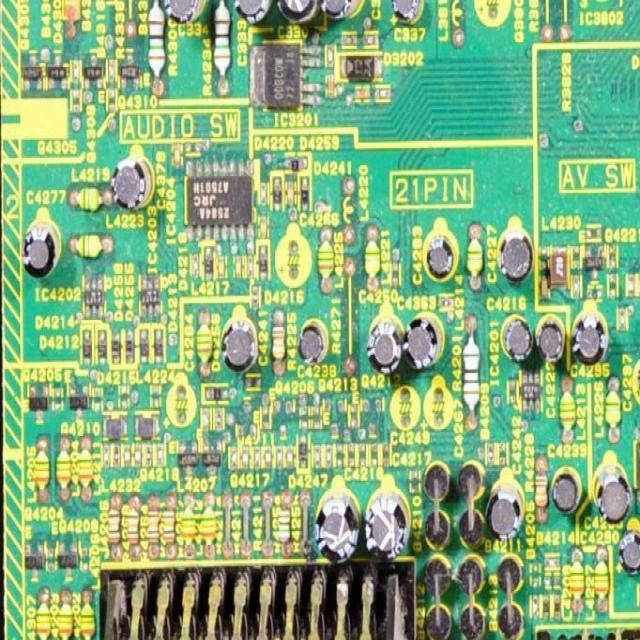IC: (186, 161, 254, 239), (248, 43, 321, 108), (136, 275, 162, 320), (84, 274, 105, 317), (634, 423, 640, 502)
capacitor: (286, 176, 295, 207), (257, 215, 269, 238), (617, 308, 628, 332), (286, 444, 295, 468), (156, 442, 164, 468), (201, 408, 210, 430), (241, 447, 250, 468), (252, 447, 261, 467), (276, 444, 284, 466), (327, 74, 334, 99), (174, 142, 181, 165), (134, 443, 140, 469), (234, 257, 241, 278), (358, 86, 371, 96), (219, 257, 225, 278), (123, 446, 130, 464), (230, 447, 236, 468), (264, 447, 270, 468)
resistor: (458, 324, 481, 428), (211, 0, 234, 95), (146, 0, 165, 92), (276, 494, 293, 554), (533, 457, 548, 521), (109, 496, 123, 555), (126, 498, 140, 556), (270, 312, 284, 370), (149, 494, 159, 554), (167, 494, 175, 554), (376, 82, 391, 98), (215, 408, 223, 432), (364, 32, 377, 46), (113, 444, 121, 466), (144, 446, 153, 464), (327, 45, 334, 67), (344, 31, 356, 43), (252, 284, 258, 308)
transistor: (26, 384, 54, 416), (584, 246, 604, 288), (46, 53, 67, 91), (178, 440, 199, 478), (24, 53, 43, 91), (67, 383, 89, 415), (24, 544, 44, 577), (204, 442, 223, 476), (59, 542, 79, 574), (83, 56, 102, 87), (121, 60, 140, 91)
